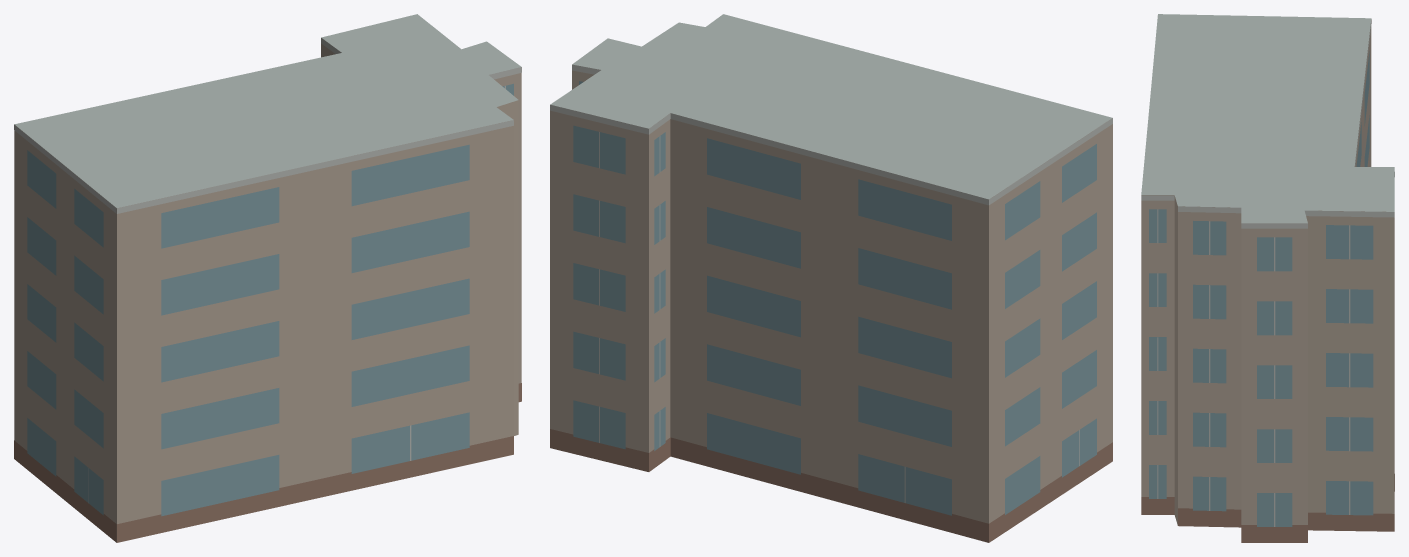
The model's file is survey-upis-32581271.glb.
3 views of the same model, side by side, from view 1: azimuth 30°, elevation 25°; view 2: azimuth 150°, elevation 25°; view 3: azimuth 270°, elevation 25° (orthographic). The views are drawn at different scales.
Visible parts, largest first — view 1: survey-upis-32581271.tmp; view 2: survey-upis-32581271.tmp; view 3: survey-upis-32581271.tmp.
Part boxes in pixels (x1=…): survey-upis-32581271.tmp: x1=14, y1=14, x2=521, y2=542; survey-upis-32581271.tmp: x1=550, y1=14, x2=1112, y2=542; survey-upis-32581271.tmp: x1=1141, y1=14, x2=1394, y2=542.
Size of the model in its own units: 19.65 by 14 by 10.07.
